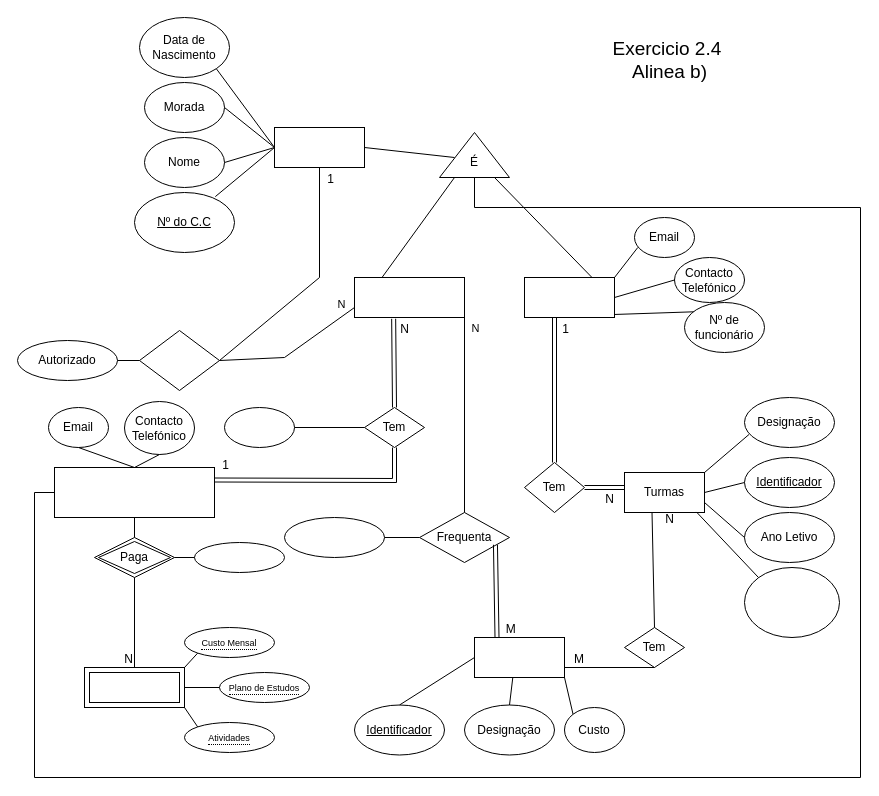
This 879x796 diagram has some shape labels left out. Here are the shapes that lost their labels. From the top down, the box of each, then its label:
(274, 126, 364, 168): Pessoa
(354, 276, 464, 318): Aluno
(524, 276, 614, 318): Professor
(138, 330, 220, 390): Entrega/ Levanta
(224, 406, 294, 448): Relação
(54, 466, 214, 518): Encarregado de Educação
(194, 542, 284, 572): Desconto Familiar
(284, 516, 384, 558): Tem turma
(744, 566, 840, 638): Nº Máximo de Alunos
(474, 636, 564, 678): Atividade
(84, 666, 184, 708): Mensalidade
